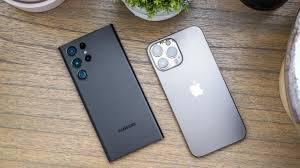Smartphone: (53, 27, 159, 157), (147, 30, 245, 160)
